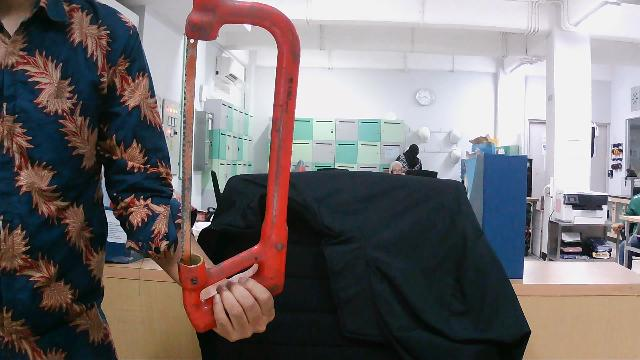gergaji_besi: (160, 0, 307, 343)
